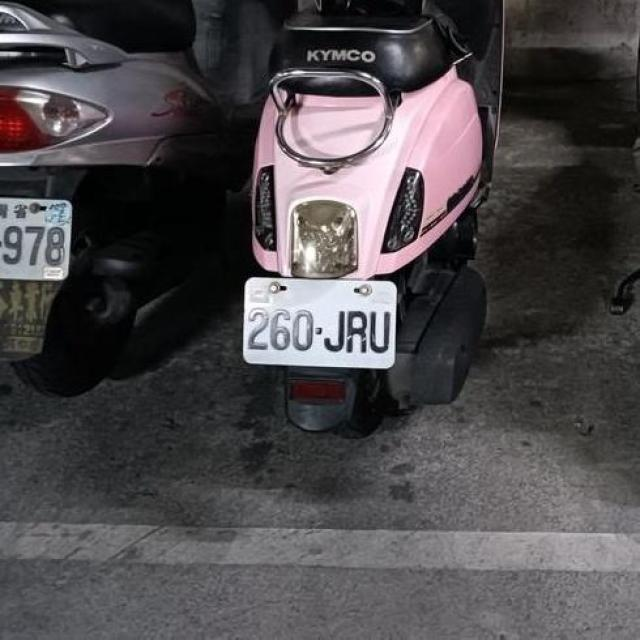W: (238, 272, 398, 371), (0, 185, 81, 288)
